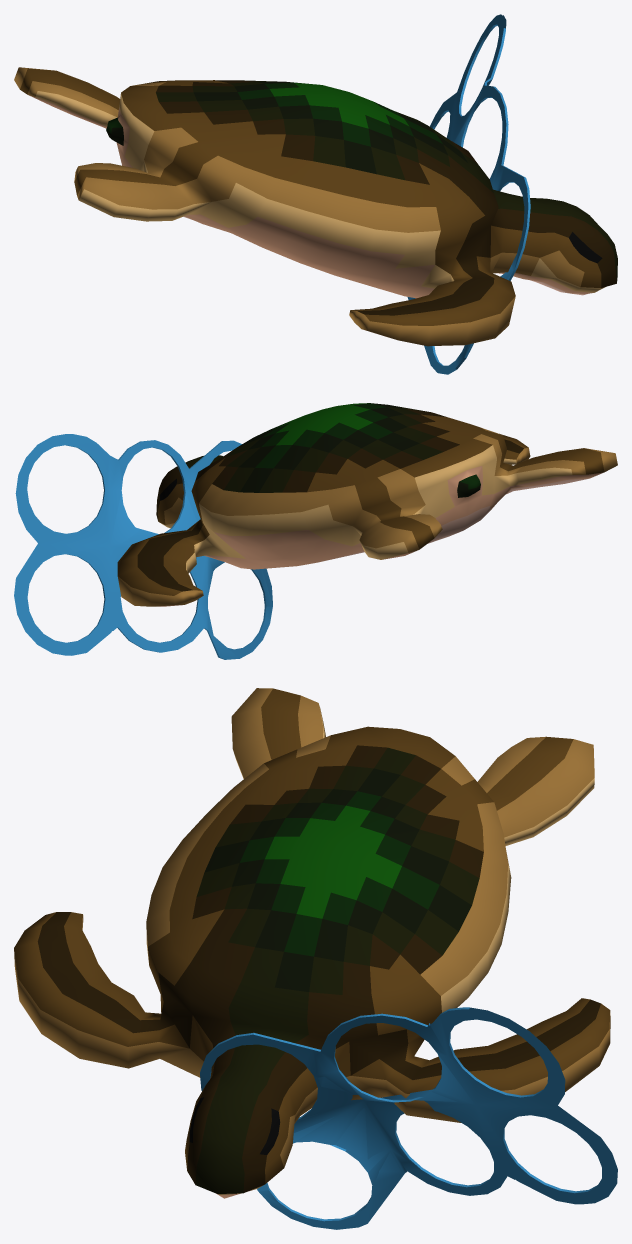
File: turtle.obj
The picture shows the model from 3 angles, top to bottom: view 1: azimuth 30°, elevation 25°; view 2: azimuth 150°, elevation 25°; view 3: azimuth 270°, elevation 25°; orthographic projection. The views are drawn at different scales.
Parts seen in each view (by area): view 1: turtle2; view 2: turtle2; view 3: turtle2.
Boxes of the visible parts, x1=… form: turtle2: x1=14, y1=14, x2=617, y2=374; turtle2: x1=14, y1=403, x2=617, y2=659; turtle2: x1=14, y1=688, x2=617, y2=1229.
Bounding box in the file's own units: 7.54 × 4.14 × 6.53.
